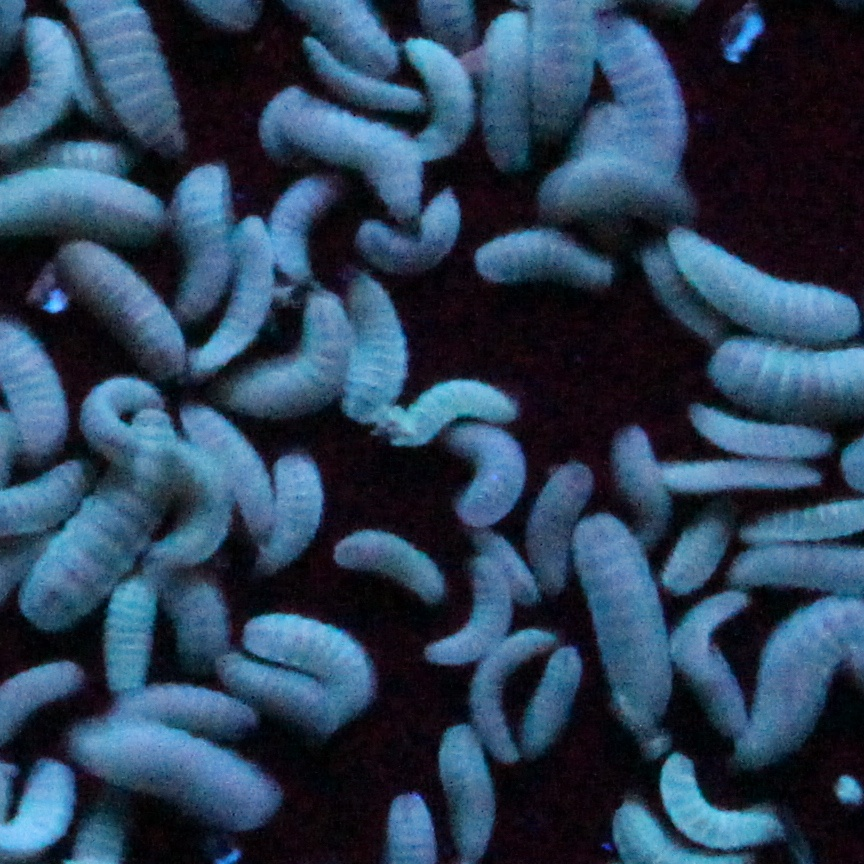larve: (33, 411, 176, 617), (66, 722, 287, 835), (668, 220, 862, 342), (273, 103, 431, 234), (571, 520, 669, 728), (66, 240, 185, 369), (233, 288, 345, 413), (231, 616, 380, 703), (657, 754, 793, 849), (543, 159, 706, 222), (342, 272, 411, 418), (212, 647, 335, 728), (437, 723, 506, 863), (397, 369, 528, 442), (421, 559, 507, 663), (447, 420, 526, 530), (473, 230, 616, 290), (687, 402, 834, 459), (256, 453, 323, 578), (174, 159, 226, 319), (400, 44, 471, 161), (526, 461, 591, 586), (337, 535, 445, 606), (666, 502, 736, 597), (605, 426, 666, 512), (667, 460, 821, 490)
